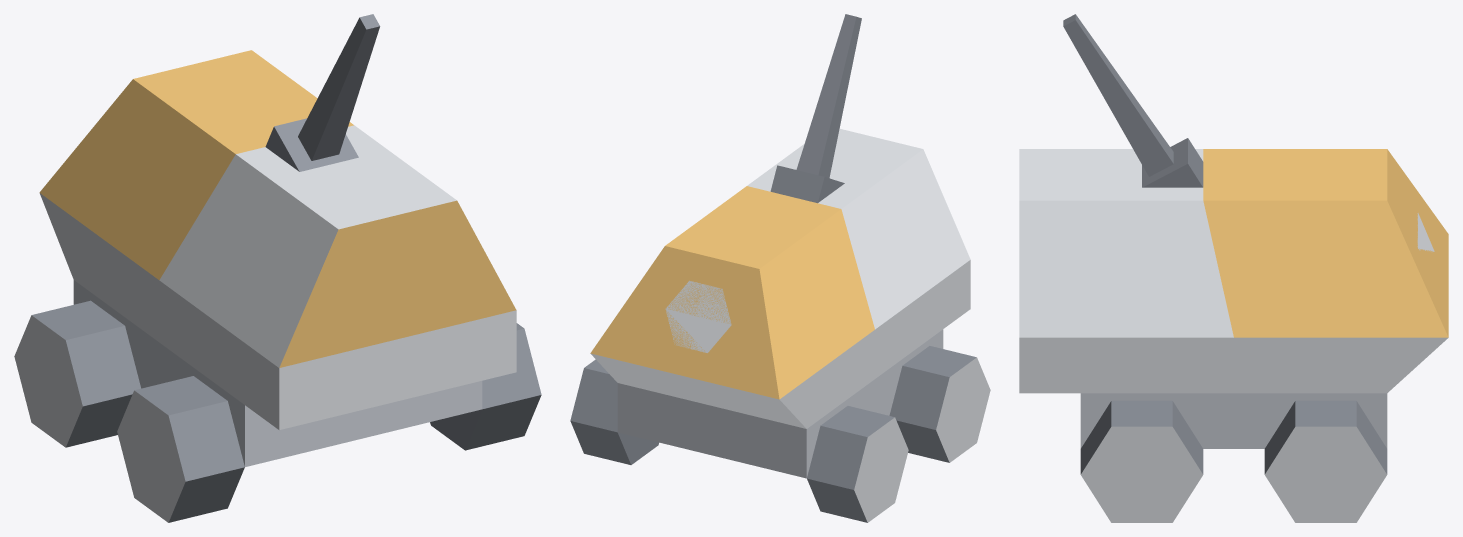
File: kenney_rover.glb
3 renders of one model, left to right at view 1: azimuth 30°, elevation 25°; view 2: azimuth 150°, elevation 25°; view 3: azimuth 270°, elevation 25°, orthographic. The views are drawn at different scales.
Parts seen in each view (by area): view 1: rover; view 2: rover; view 3: rover.
Boxes of the visible parts, bbox=[...] form: rover: bbox=[14, 14, 541, 522]; rover: bbox=[570, 14, 990, 522]; rover: bbox=[1019, 14, 1448, 522].
Bounding box in the file's own units: 0.3 × 0.3853 × 0.35.
